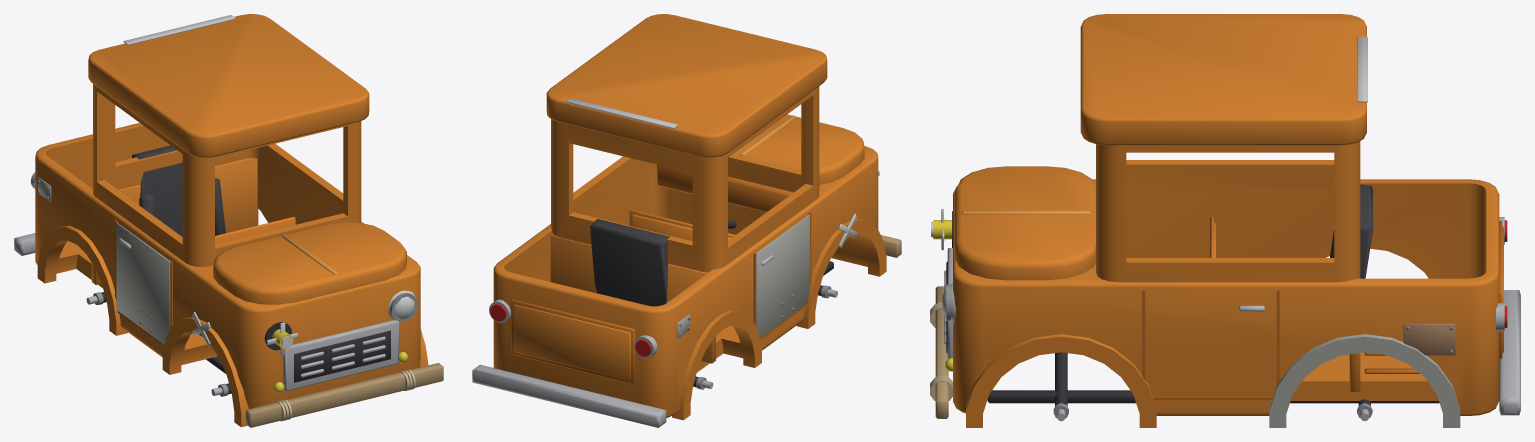
Rendered from pickup.glb.
3 renders of one model, left to right at view 1: azimuth 30°, elevation 25°; view 2: azimuth 150°, elevation 25°; view 3: azimuth 270°, elevation 25°, orthographic. The views are drawn at different scales.
Visible parts, largest first — view 1: pickup, pickup_sig; view 2: pickup, pickup_sig; view 3: pickup.
Boxes of the visible parts, <box> form: pickup: <box>14,14,443,427</box>; pickup_sig: <box>215,217,295,244</box>; pickup: <box>472,14,901,427</box>; pickup_sig: <box>629,209,735,241</box>; pickup: <box>930,14,1520,427</box>.
Size of the model in its own units: 1.26 by 1.59 by 2.73.
